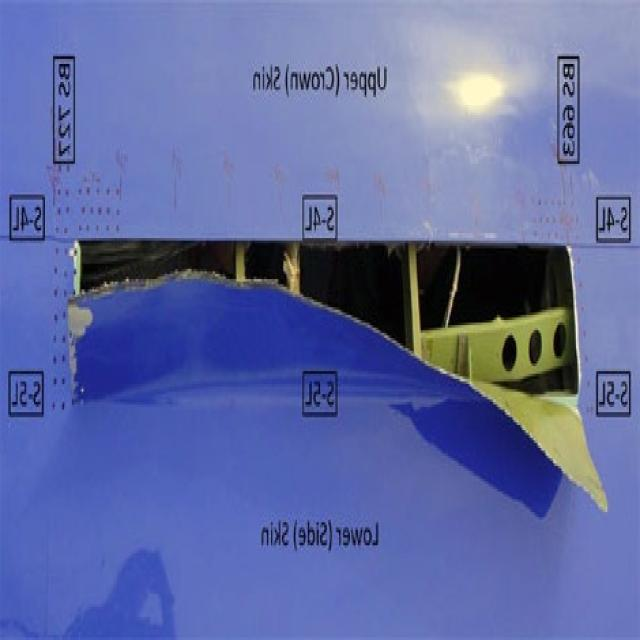crack: (69, 242, 614, 524)
